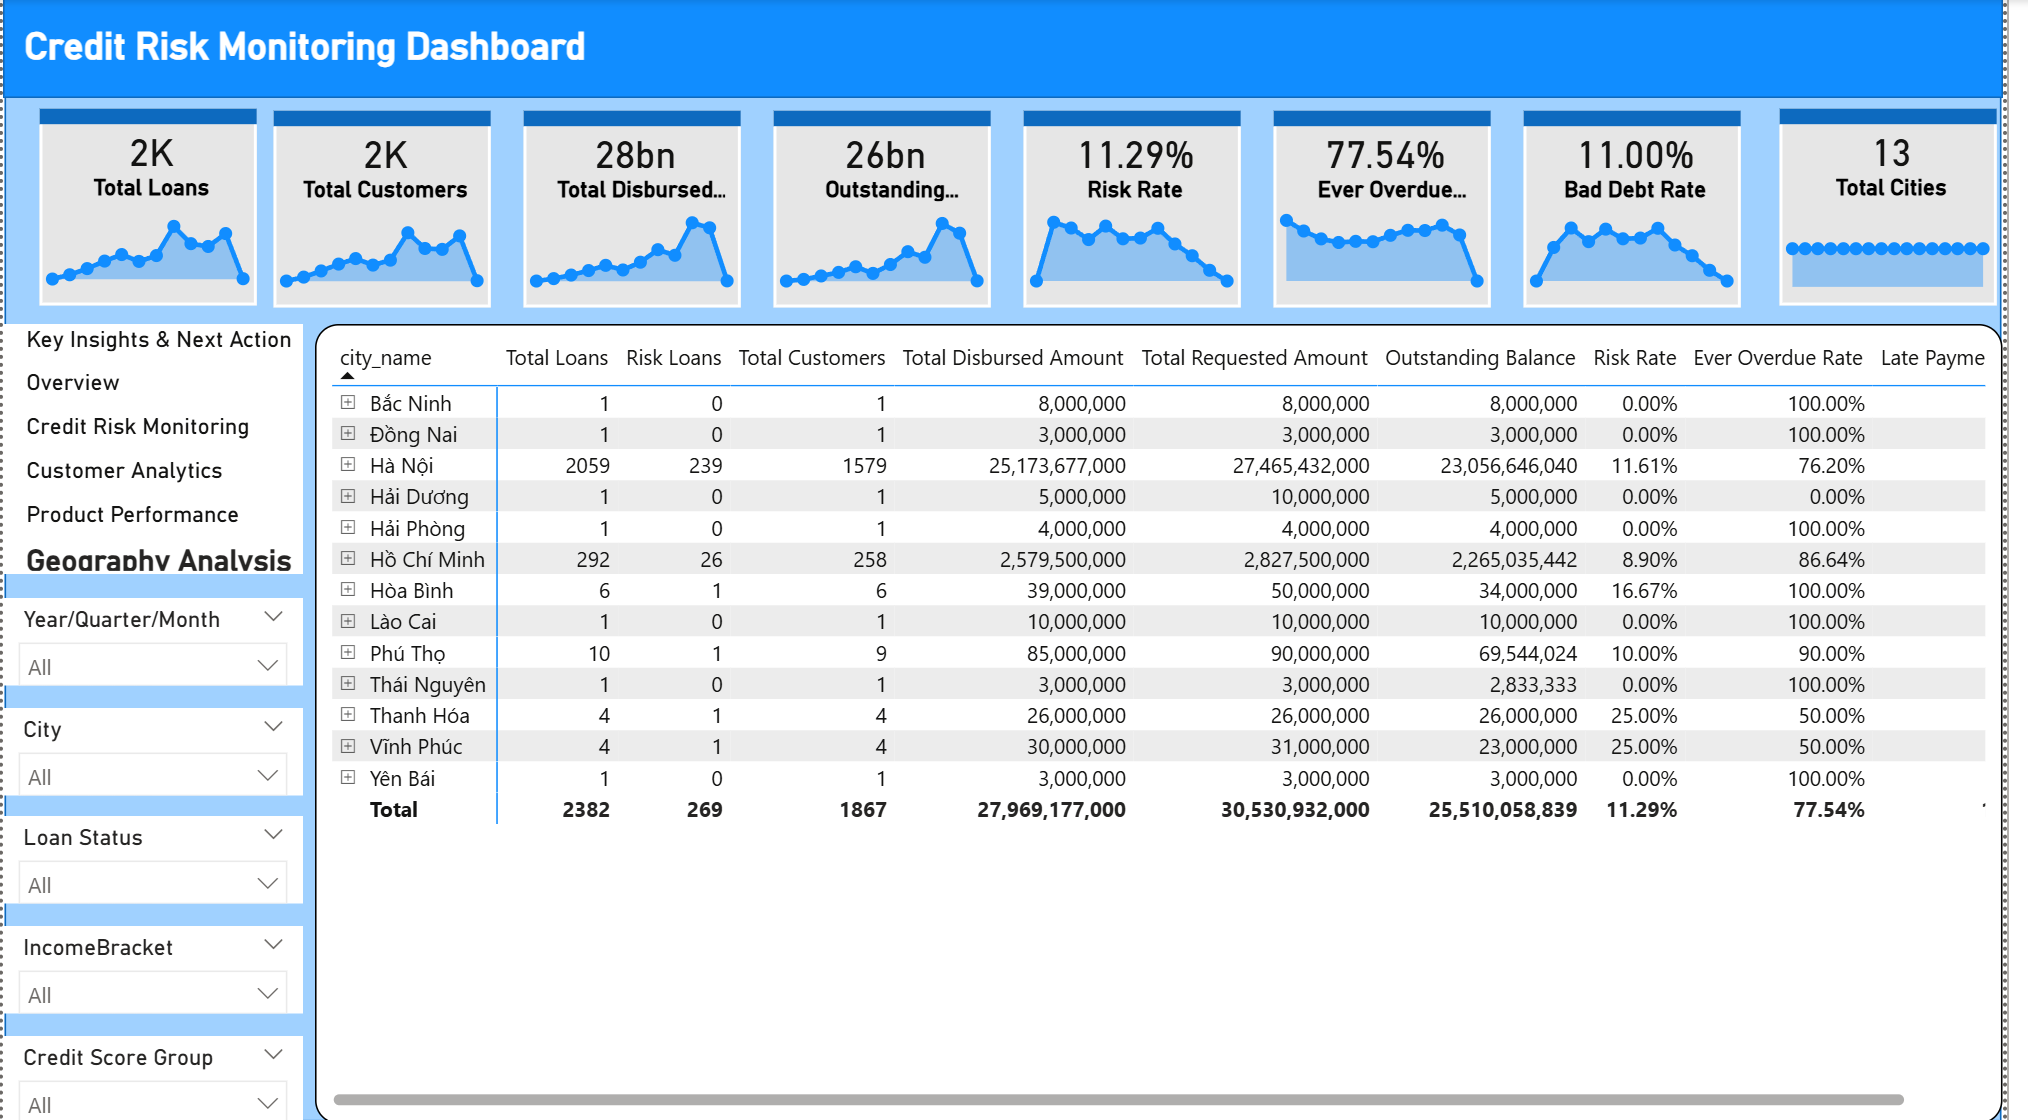

This screenshot's page, from the dashboard's own definition file:
{"tool":"powerbi","page":{"name":"Geography Analysis","canvas":[1280,720],"ordinal":5},"visuals":[{"type":"textbox","box":[10,0,280,280],"z":0},{"type":"cardVisual","fields":{"Data":["Measure.Total Cities"]},"box":[1120,53.1,173.3,160],"z":0,"group":"g10"},{"type":"cardVisual","fields":{"Data":["Measure.Total Loans"]},"box":[6.1,53.4,173.3,160],"z":0,"group":"g9"},{"type":"cardVisual","fields":{"Data":["Measure.Total Customers"]},"box":[156.3,54.4,173.3,160],"z":0,"group":"g3"},{"type":"cardVisual","fields":{"Data":["Measure.Outstanding Balance"]},"box":[476.3,54.4,173.3,160],"z":0,"group":"g5"},{"type":"cardVisual","fields":{"Data":["Measure.Risk Rate"]},"box":[636.3,54.4,173.3,160],"z":0,"group":"g6"},{"type":"cardVisual","fields":{"Data":["Measure.Overdue Rate"]},"box":[796.3,54.4,173.3,160],"z":0,"group":"g7"},{"type":"cardVisual","fields":{"Data":["Measure.Bad Debt Rate"]},"box":[956.3,54.4,173.3,160],"z":0,"group":"g8"},{"type":"slicer","fields":{"Values":["dim_date.date_key.Variation.Date Hierarchy.Year","dim_date.date_key.Variation.Date Hierarchy.Quarter","dim_date.date_key.Variation.Date Hierarchy.Month","dim_date.date_key.Variation.Date Hierarchy.Day"]},"box":[0,384,192,56],"z":0,"group":"g2"},{"type":"shape","box":[0,0,1280,720],"z":1000},{"type":"textbox","box":[9.5,11.1,639.4,46.1],"z":1000,"group":"g1"},{"type":"cardVisual","fields":{"Data":["Measure.Total Disbursed Amount"]},"box":[316.3,54.4,173.3,160],"z":1000,"group":"g4"},{"type":"lineChart","fields":{"Category":["dim_date.date_key.Variation.Date Hierarchy.Year","dim_date.date_key.Variation.Date Hierarchy.Quarter"],"Y":["Measure.Total Cities"]},"box":[1130.2,122,152,67.1],"z":1000,"group":"g10"},{"type":"lineChart","fields":{"Category":["dim_date.date_key.Variation.Date Hierarchy.Year","dim_date.date_key.Variation.Date Hierarchy.Quarter"],"Y":["Measure.Total Loans"]},"box":[16.3,122.3,152,67.1],"z":1000,"group":"g9"},{"type":"lineChart","fields":{"Category":["dim_date.date_key.Variation.Date Hierarchy.Year","dim_date.date_key.Variation.Date Hierarchy.Quarter"],"Y":["Measure.Total Customers"]},"box":[166.5,123.3,152,67.1],"z":1000,"group":"g3"},{"type":"lineChart","fields":{"Category":["dim_date.date_key.Variation.Date Hierarchy.Year","dim_date.date_key.Variation.Date Hierarchy.Quarter"],"Y":["Measure.Outstanding Balance"]},"box":[486.5,123.3,152,67.1],"z":1000,"group":"g5"},{"type":"lineChart","fields":{"Category":["dim_date.date_key.Variation.Date Hierarchy.Year","dim_date.date_key.Variation.Date Hierarchy.Quarter"],"Y":["Measure.Risk Rate"]},"box":[646.5,123.3,152,67.1],"z":1000,"group":"g6"},{"type":"lineChart","fields":{"Category":["dim_date.date_key.Variation.Date Hierarchy.Year","dim_date.date_key.Variation.Date Hierarchy.Quarter"],"Y":["Measure.Overdue Rate"]},"box":[806.5,123.3,152,67.1],"z":1000,"group":"g7"},{"type":"lineChart","fields":{"Category":["dim_date.date_key.Variation.Date Hierarchy.Year","dim_date.date_key.Variation.Date Hierarchy.Quarter"],"Y":["Measure.Bad Debt Rate"]},"box":[966.5,123.3,152,67.1],"z":1000,"group":"g8"},{"type":"slicer","fields":{"Values":["fact_loans.loan_status"]},"box":[0,524,192,56],"z":1000,"group":"g2"},{"type":"shape","box":[0,0,1280,64],"z":2000},{"type":"lineChart","fields":{"Category":["dim_date.date_key.Variation.Date Hierarchy.Year","dim_date.date_key.Variation.Date Hierarchy.Quarter"],"Y":["Measure.Total Disbursed Amount"]},"box":[326.5,123.3,152,67.1],"z":2000,"group":"g4"},{"type":"slicer","fields":{"Values":["dim_customer.credit_score_group"]},"box":[0,664,192,56],"z":2000,"group":"g2"},{"type":"group","id":"g1","title":"Group 1","box":[9.5,11.1,639.4,46.1],"z":3000},{"type":"slicer","fields":{"Values":["dim_customer.income_bracket"]},"box":[0,594,192,56],"z":3000,"group":"g2"},{"type":"pageNavigator","box":[0,208,192,160],"z":4000},{"type":"slicer","fields":{"Values":["dim_geography.city_name"]},"box":[0,454,192,56],"z":4000,"group":"g2"},{"type":"group","id":"g2","title":"Group 2","box":[0,384,192,336],"z":5000},{"type":"group","id":"g3","title":"Total Loan","box":[156.3,54.4,160,160],"z":6000},{"type":"group","id":"g4","title":"Total Loan","box":[316.3,54.4,173.3,160],"z":7000},{"type":"group","id":"g5","title":"Total Loan","box":[476.3,54.4,160,160],"z":8000},{"type":"group","id":"g6","title":"Total Loan","box":[636.3,54.4,160,160],"z":9000},{"type":"group","id":"g7","title":"Total Loan","box":[796.3,54.4,160,160],"z":10000},{"type":"group","id":"g8","title":"Total Loan","box":[956.3,54.4,160,160],"z":11000},{"type":"group","id":"g9","title":"Total Loan","box":[6.1,53.4,160,160],"z":12000},{"type":"group","id":"g10","title":"Total Loan","box":[1120,53.1,160,160],"z":13000},{"type":"pivotTable","title":"Disbursement by Product","fields":{"Rows":["dim_geography.city_name","dim_geography.district_name"],"Values":["Measure.Total Loans","Measure.Risk Loans","Measure.Total Customers","Measure.Total Disbursed Amount","Measure.Total Requested Amount","Measure.Outstanding Balance","Measure.Risk Rate","Measure.Overdue Rate","Measure.Late Payment Rate"]},"box":[200,208,1080,512],"z":14000}]}

Visuals, with their boxes in screenshot pixels (x1, y1, x2, y2), scaled from the page's 1280x720 canvas onto the 2028x1120 screenshot:
textbox: 16, 0, 459, 436
cardVisual - Measure.Total Cities: 1774, 83, 2027, 331
cardVisual - Measure.Total Loans: 10, 83, 284, 332
cardVisual - Measure.Total Customers: 248, 85, 522, 334
cardVisual - Measure.Outstanding Balance: 755, 85, 1029, 334
cardVisual - Measure.Risk Rate: 1008, 85, 1283, 334
cardVisual - Measure.Overdue Rate: 1262, 85, 1536, 334
cardVisual - Measure.Bad Debt Rate: 1515, 85, 1790, 334
slicer - dim_date.date_key.Variation.Date Hierarchy.Year x dim_date.date_key.Variation.Date Hierarchy.Quarter: 0, 597, 304, 684
shape: 0, 0, 2027, 1119
textbox: 15, 17, 1028, 89
cardVisual - Measure.Total Disbursed Amount: 501, 85, 776, 334
lineChart - dim_date.date_key.Variation.Date Hierarchy.Year x dim_date.date_key.Variation.Date Hierarchy.Quarter: 1791, 190, 2027, 294
lineChart - dim_date.date_key.Variation.Date Hierarchy.Year x dim_date.date_key.Variation.Date Hierarchy.Quarter: 26, 190, 267, 295
lineChart - dim_date.date_key.Variation.Date Hierarchy.Year x dim_date.date_key.Variation.Date Hierarchy.Quarter: 264, 192, 505, 296
lineChart - dim_date.date_key.Variation.Date Hierarchy.Year x dim_date.date_key.Variation.Date Hierarchy.Quarter: 771, 192, 1012, 296
lineChart - dim_date.date_key.Variation.Date Hierarchy.Year x dim_date.date_key.Variation.Date Hierarchy.Quarter: 1024, 192, 1265, 296
lineChart - dim_date.date_key.Variation.Date Hierarchy.Year x dim_date.date_key.Variation.Date Hierarchy.Quarter: 1278, 192, 1519, 296
lineChart - dim_date.date_key.Variation.Date Hierarchy.Year x dim_date.date_key.Variation.Date Hierarchy.Quarter: 1531, 192, 1772, 296
slicer - fact_loans.loan_status: 0, 815, 304, 902
shape: 0, 0, 2027, 100
lineChart - dim_date.date_key.Variation.Date Hierarchy.Year x dim_date.date_key.Variation.Date Hierarchy.Quarter: 517, 192, 758, 296
slicer - dim_customer.credit_score_group: 0, 1033, 304, 1119
"Group 1" group: 15, 17, 1028, 89
slicer - dim_customer.income_bracket: 0, 924, 304, 1011
pageNavigator: 0, 324, 304, 572
slicer - dim_geography.city_name: 0, 706, 304, 793
"Group 2" group: 0, 597, 304, 1119
"Total Loan" group: 248, 85, 501, 334
"Total Loan" group: 501, 85, 776, 334
"Total Loan" group: 755, 85, 1008, 334
"Total Loan" group: 1008, 85, 1262, 334
"Total Loan" group: 1262, 85, 1515, 334
"Total Loan" group: 1515, 85, 1769, 334
"Total Loan" group: 10, 83, 263, 332
"Total Loan" group: 1774, 83, 2027, 331
"Disbursement by Product" pivotTable: 317, 324, 2027, 1119
